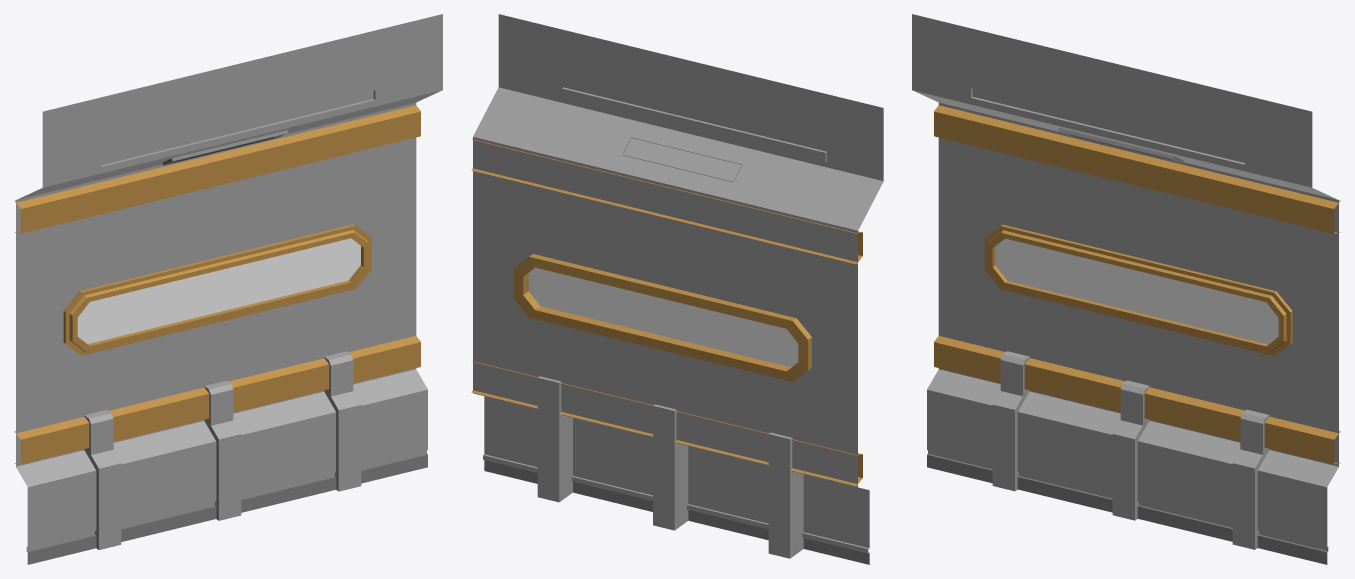
File: LongWindow_Wall_SideB.glb
3 renders of one model, left to right at view 1: azimuth 30°, elevation 25°; view 2: azimuth 150°, elevation 25°; view 3: azimuth 330°, elevation 25°, orthographic. The views are drawn at different scales.
Parts seen in each view (by area): view 1: LongWindow_Wall_SideB; view 2: LongWindow_Wall_SideB; view 3: LongWindow_Wall_SideB.
Part boxes in pixels (x1,y1,x2,y2): LongWindow_Wall_SideB: (14,14,442,564); LongWindow_Wall_SideB: (471,14,883,564); LongWindow_Wall_SideB: (912,14,1340,564).
Size of the model in its own units: 4 by 4.43 by 0.5354.
